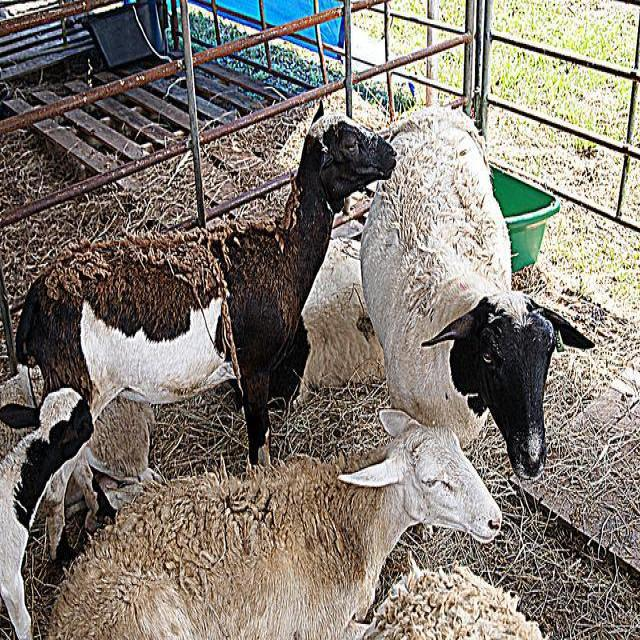Sheep: (20, 102, 399, 470), (48, 409, 503, 639), (363, 96, 596, 480), (0, 385, 97, 639), (360, 556, 541, 639), (300, 241, 383, 404)
